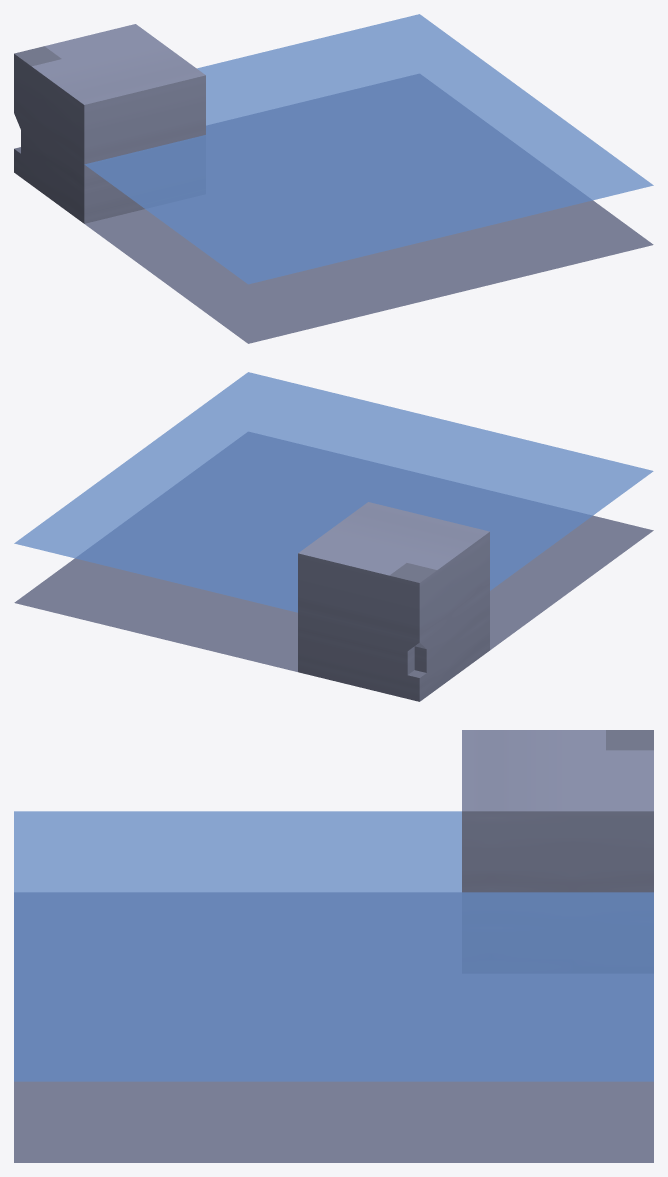
The model's file is fountainCornerInnerSquare.fbx.
3 views of the same model, one above another, from view 1: azimuth 30°, elevation 25°; view 2: azimuth 150°, elevation 25°; view 3: azimuth 270°, elevation 25° (orthographic). The views are drawn at different scales.
Visible parts, largest first — view 1: fountainCornerInnerSquare; view 2: fountainCornerInnerSquare; view 3: fountainCornerInnerSquare.
Boxes of the visible parts, x1,y1,x2,y2 form: fountainCornerInnerSquare: (14,14,653,343); fountainCornerInnerSquare: (14,372,653,701); fountainCornerInnerSquare: (14,730,653,1162).
Size of the model in its own units: 1 by 1 by 0.28.
